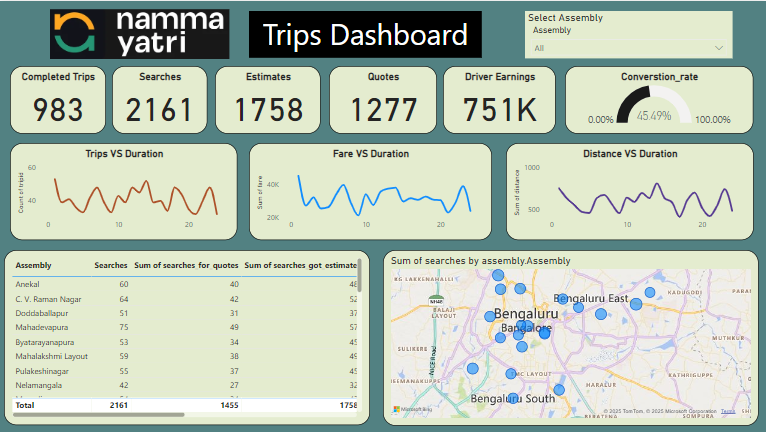

What the dashboard file says about the page in this screenshot:
{"tool":"powerbi","page":{"name":"Page 1","canvas":[1280,720],"ordinal":0},"visuals":[{"type":"card","title":"Completed Trips","fields":{"Values":["Sum(trip_details.end_ride)"]},"box":[18.5,108.9,159.5,112.8],"z":0},{"type":"card","title":"Searches","fields":{"Values":["Sum(trip_details.searches)"]},"box":[188.7,108.9,158.5,112.8],"z":1000},{"type":"card","title":"Estimates","fields":{"Values":["Sum(trip_details.searches_got_estimate)"]},"box":[360.3,108.7,176.1,112.7],"z":2000},{"type":"card","title":"Quotes","fields":{"Values":["Sum(trip_details.searches_got_quotes)"]},"box":[549.4,108.7,180.1,112.7],"z":3000},{"type":"card","title":"Driver Earnings","fields":{"Values":["Sum(trips.fare)"]},"box":[740.6,108.7,188.2,112.7],"z":4000},{"type":"gauge","fields":{"Y":["trip_details.Converstion_rate"]},"box":[942.9,108.7,314,112.7],"z":5000},{"type":"lineChart","title":"Trips VS Duration","fields":{"Category":["trips.duration"],"Y":["CountNonNull(trips.tripid)"]},"box":[18.1,236.5,379.4,162],"z":6000},{"type":"lineChart","title":"Fare VS Duration","fields":{"Category":["trips.duration"],"Y":["Sum(trips.fare)"]},"box":[416.6,236.5,404.5,162],"z":7000},{"type":"lineChart","title":"Distance VS Duration","fields":{"Y":["Sum(trips.distance)"],"Category":["trips.duration"]},"box":[844.3,236.5,412.6,162],"z":8000},{"type":"tableEx","fields":{"Values":["Merge2.assembly.Assembly","Sum(Merge2.searches)","Sum(Merge2.searches_for_quotes)","Sum(Merge2.searches_got_estimate)","Sum(Merge2.searches_got_quotes)","Sum(Merge2.trips.fare)","Sum(Merge2.trips.distance)","trip_details.Converstion_rate"]},"box":[9.1,415.6,609.8,291.8],"z":9000},{"type":"map","fields":{"Category":["Merge2.assembly.Assembly"],"Size":["Sum(Merge2.searches)"]},"box":[640,414.6,625.9,292.8],"z":10000},{"type":"image","box":[80.5,2,308.9,106.7],"z":11000},{"type":"textbox","box":[416.6,17.1,388.4,78.5],"z":12000},{"type":"slicer","title":"Select Assembly","fields":{"Values":["Merge2.assembly.Assembly"]},"box":[877.5,17.1,346.2,79.5],"z":13000}]}

Visuals, with their boxes in screenshot pixels (x1, y1, x2, y2), scaled from the page's 1280x720 canvas onto the 766x432 screenshot:
"Completed Trips" card: {"x1": 11, "y1": 65, "x2": 107, "y2": 133}
"Searches" card: {"x1": 113, "y1": 65, "x2": 208, "y2": 133}
"Estimates" card: {"x1": 216, "y1": 65, "x2": 321, "y2": 133}
"Quotes" card: {"x1": 329, "y1": 65, "x2": 437, "y2": 133}
"Driver Earnings" card: {"x1": 443, "y1": 65, "x2": 556, "y2": 133}
gauge - trip_details.Converstion_rate: {"x1": 564, "y1": 65, "x2": 752, "y2": 133}
"Trips VS Duration" lineChart: {"x1": 11, "y1": 142, "x2": 238, "y2": 239}
"Fare VS Duration" lineChart: {"x1": 249, "y1": 142, "x2": 491, "y2": 239}
"Distance VS Duration" lineChart: {"x1": 505, "y1": 142, "x2": 752, "y2": 239}
tableEx - Merge2.assembly.Assembly x Sum(Merge2.searches): {"x1": 5, "y1": 249, "x2": 370, "y2": 424}
map - Merge2.assembly.Assembly x Sum(Merge2.searches): {"x1": 383, "y1": 249, "x2": 758, "y2": 424}
image: {"x1": 48, "y1": 1, "x2": 233, "y2": 65}
textbox: {"x1": 249, "y1": 10, "x2": 482, "y2": 57}
"Select Assembly" slicer: {"x1": 525, "y1": 10, "x2": 732, "y2": 58}
